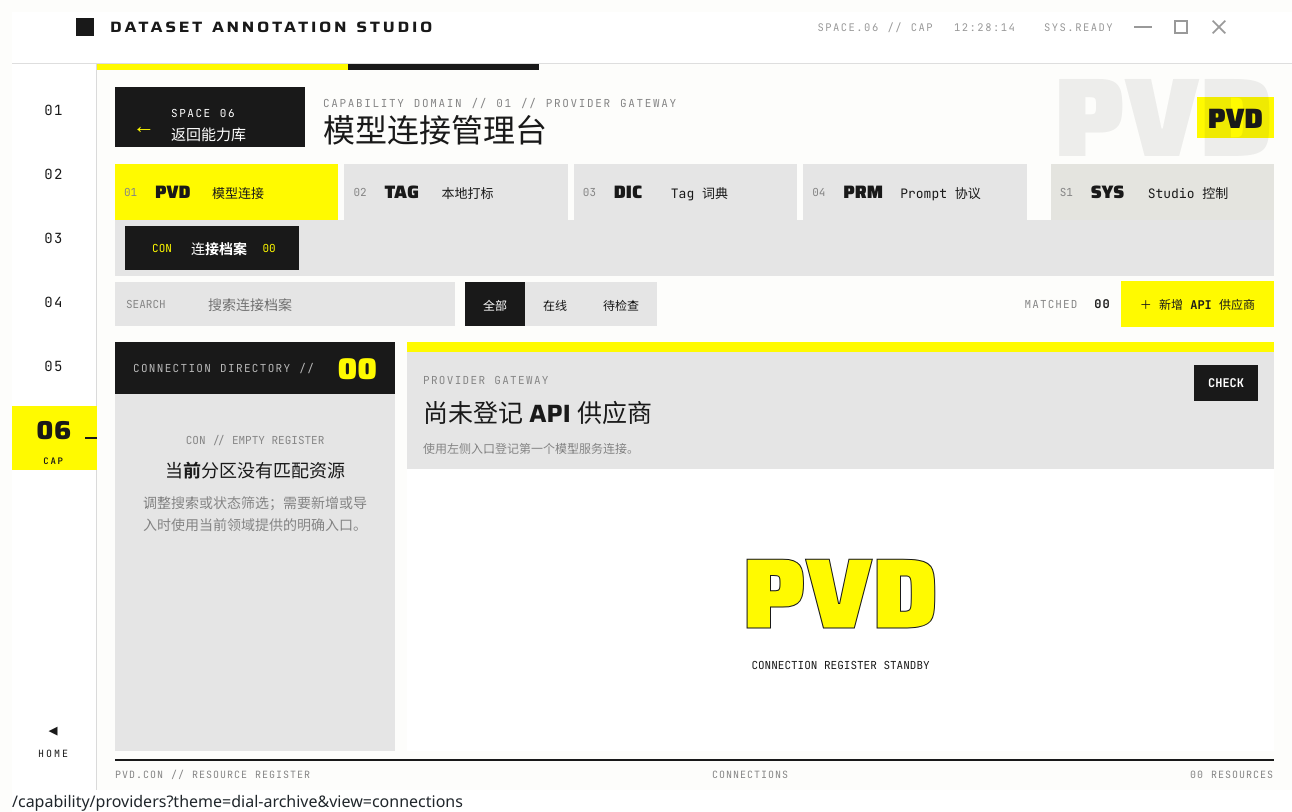
it: new frontend routes › opens the real API provider creation workbench from the provider register
(page scrolled)
Click the button "＋ 新增 API 供应商".
click(1197, 304)  # box 1121,281 -> 1274,327
(page scrolled)
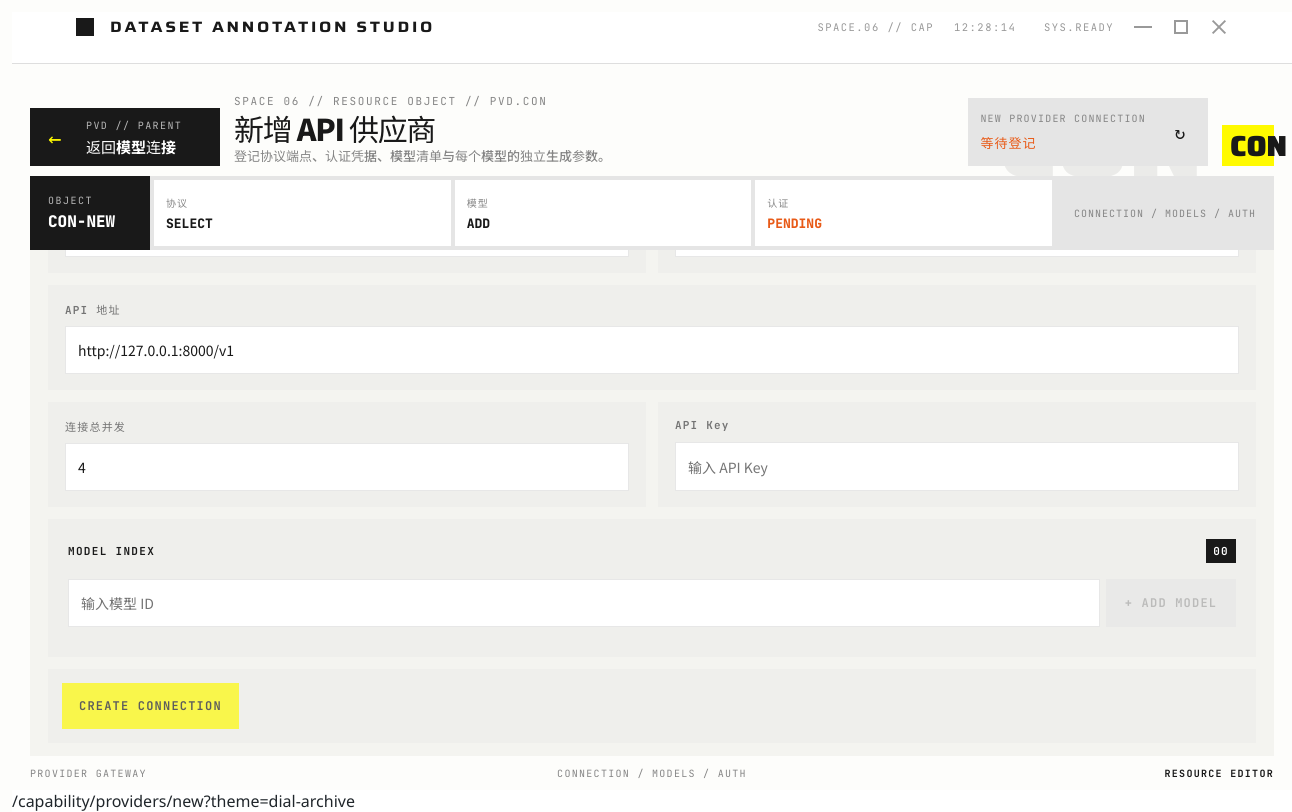
Expected: the heading "新增 API 供应商" is shown, 234,106 -> 435,150
Now the text named "current route" reads "/capability/providers/new?theme=dial-archive", box 12,790 -> 355,811
Now the button "CREATE CONNECTION" is disabled, box 62,683 -> 239,729
